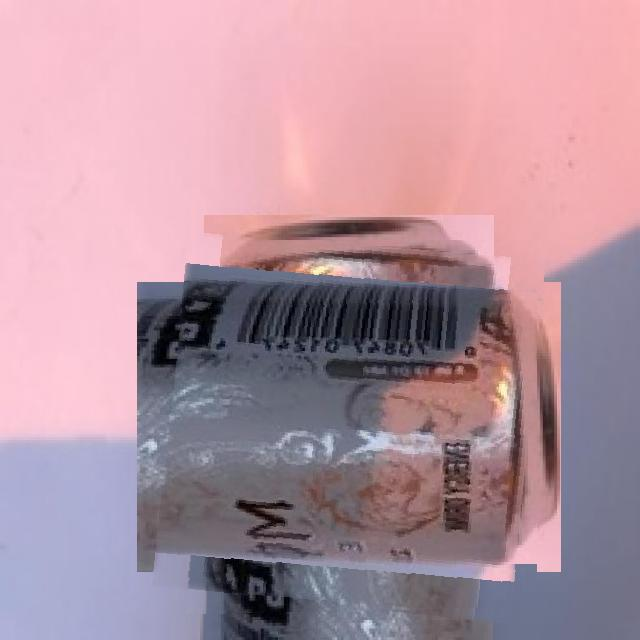recyclable: (161, 240, 537, 615)
